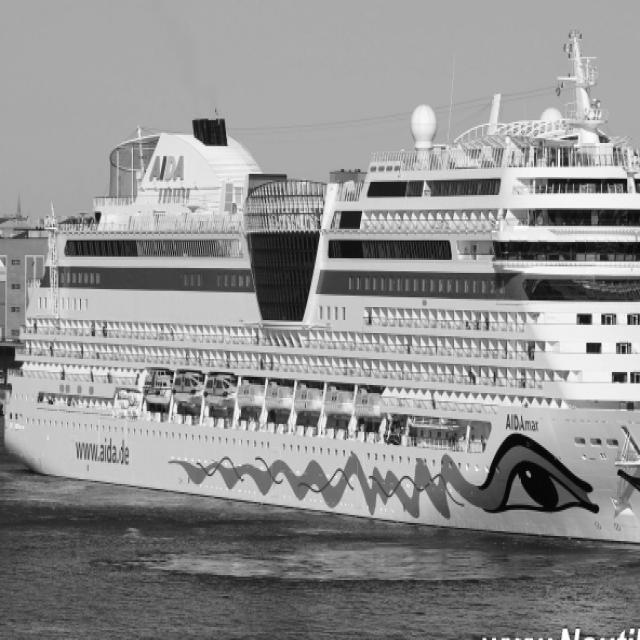cruises: (1, 27, 640, 561)
